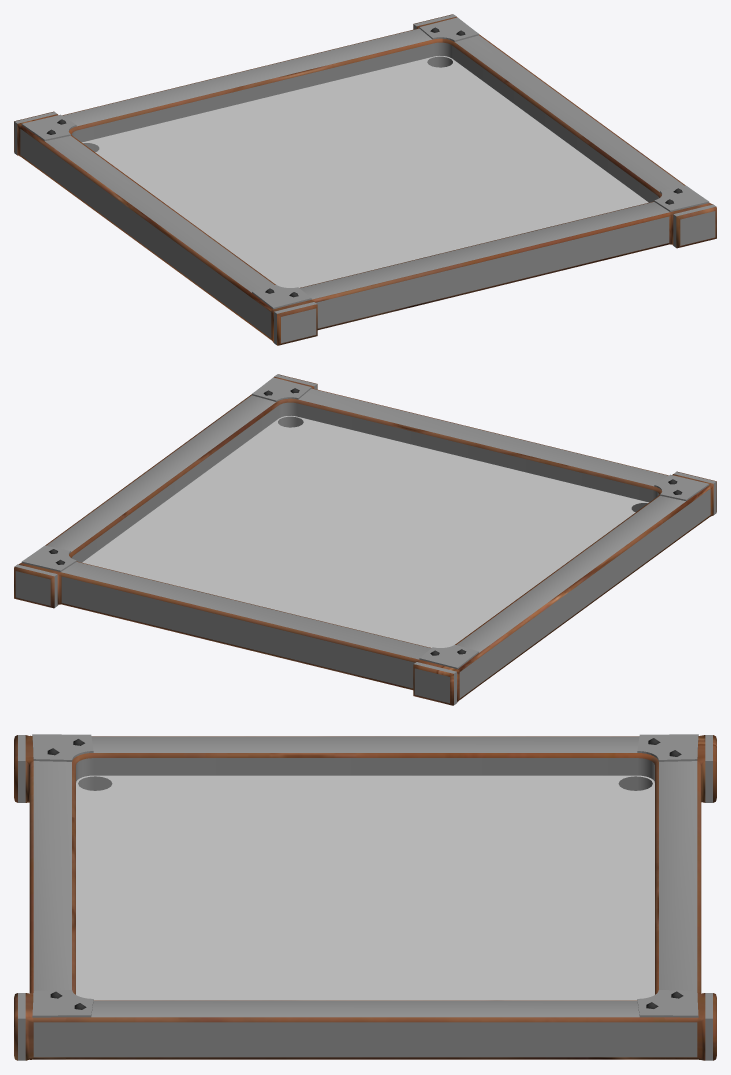
File: board.FBX
3 views of the same model, one above another, from view 1: azimuth 30°, elevation 25°; view 2: azimuth 150°, elevation 25°; view 3: azimuth 270°, elevation 25° (orthographic). The views are drawn at different scales.
Parts seen in each view (by area): view 1: CenterBoard, frame; view 2: CenterBoard, frame; view 3: CenterBoard, frame, bolt.
Part boxes in pixels (left/top/right/bottom): CenterBoard: left=82, top=56, right=648, bottom=287; frame: left=14, top=14, right=716, bottom=345; CenterBoard: left=82, top=416, right=648, bottom=647; frame: left=14, top=374, right=716, bottom=705; CenterBoard: left=76, top=775, right=654, bottom=1000; frame: left=14, top=734, right=716, bottom=1060; bolt: left=47, top=738, right=683, bottom=1009.
Bounding box in the file's own units: 0.8697 × 0.0692 × 0.9104.
